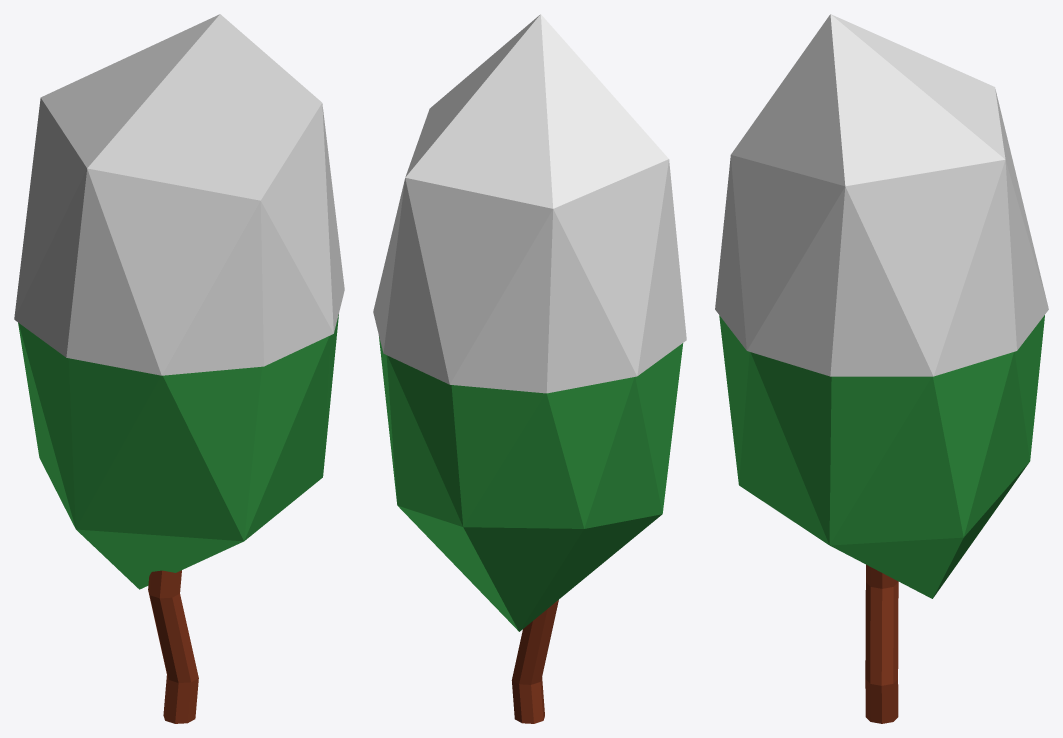
Rendered from tree.000.fbx.
3 views of the same model, side by side, from view 1: azimuth 30°, elevation 25°; view 2: azimuth 150°, elevation 25°; view 3: azimuth 270°, elevation 25° (orthographic). The views are drawn at different scales.
Visible parts, largest first — view 1: Tree.000; view 2: Tree.000; view 3: Tree.000.
Part boxes in pixels (x1,y1,x2,y2): Tree.000: (14,14,344,723); Tree.000: (373,14,686,723); Tree.000: (715,14,1048,723).
Bounding box in the file's own units: 388 × 958 × 408.
